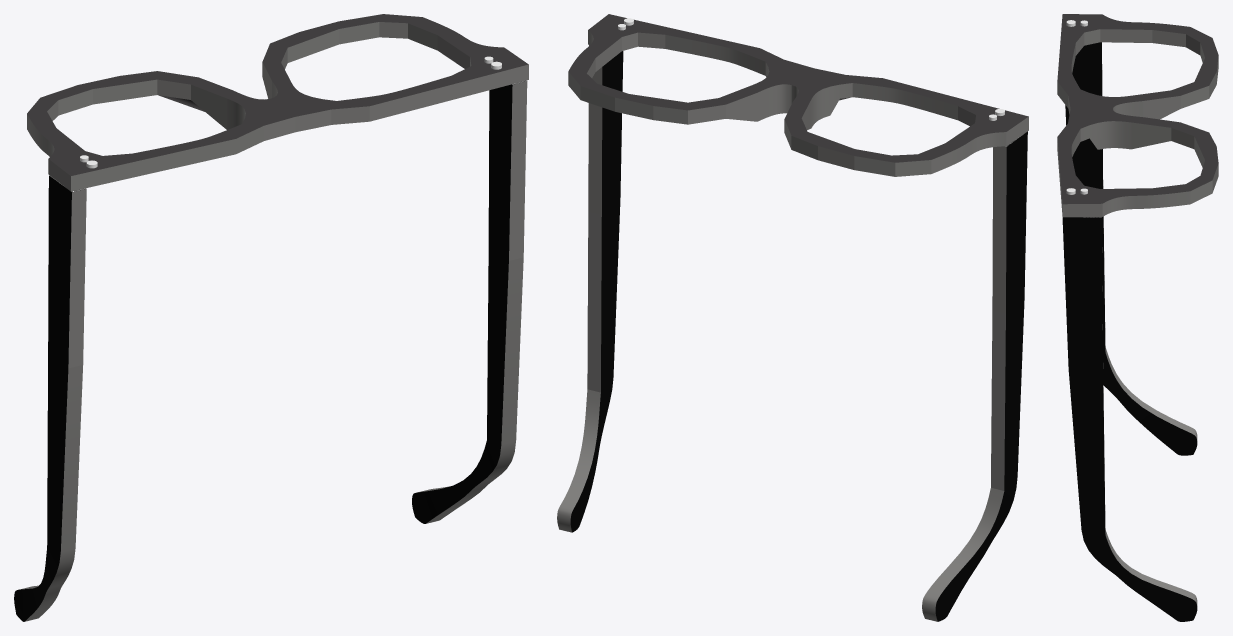
File: glasses.obj
3 renders of one model, left to right at view 1: azimuth 30°, elevation 25°; view 2: azimuth 150°, elevation 25°; view 3: azimuth 270°, elevation 25°, orthographic. The views are drawn at different scales.
Parts seen in each view (by area): view 1: glasses; view 2: glasses; view 3: glasses.
Part boxes in pixels (bbox=[...]): glasses: bbox=[14, 14, 528, 621]; glasses: bbox=[557, 14, 1028, 621]; glasses: bbox=[1057, 14, 1218, 621].
Size of the model in its own units: 400 by 421 by 143.
